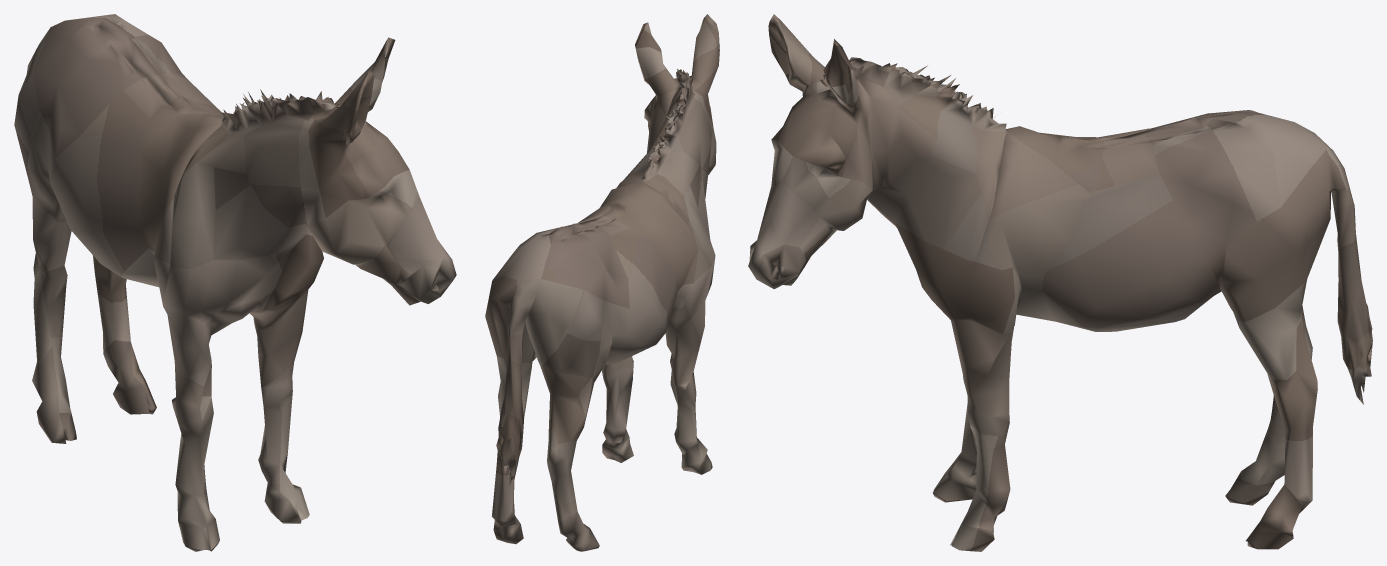
File: sa_donkey.glb
3 views of the same model, side by side, from view 1: azimuth 30°, elevation 25°; view 2: azimuth 150°, elevation 25°; view 3: azimuth 270°, elevation 25° (orthographic). The views are drawn at different scales.
Visible parts, largest first — view 1: sa_donkey; view 2: sa_donkey; view 3: sa_donkey.
Part boxes in pixels (left/top/right/bottom): sa_donkey: left=14, top=14, right=456, bottom=551; sa_donkey: left=485, top=14, right=719, bottom=551; sa_donkey: left=748, top=14, right=1372, bottom=551.
Bounding box in the file's own units: 0.3506 × 0.916 × 0.9913.
1 material, 1 textured.
